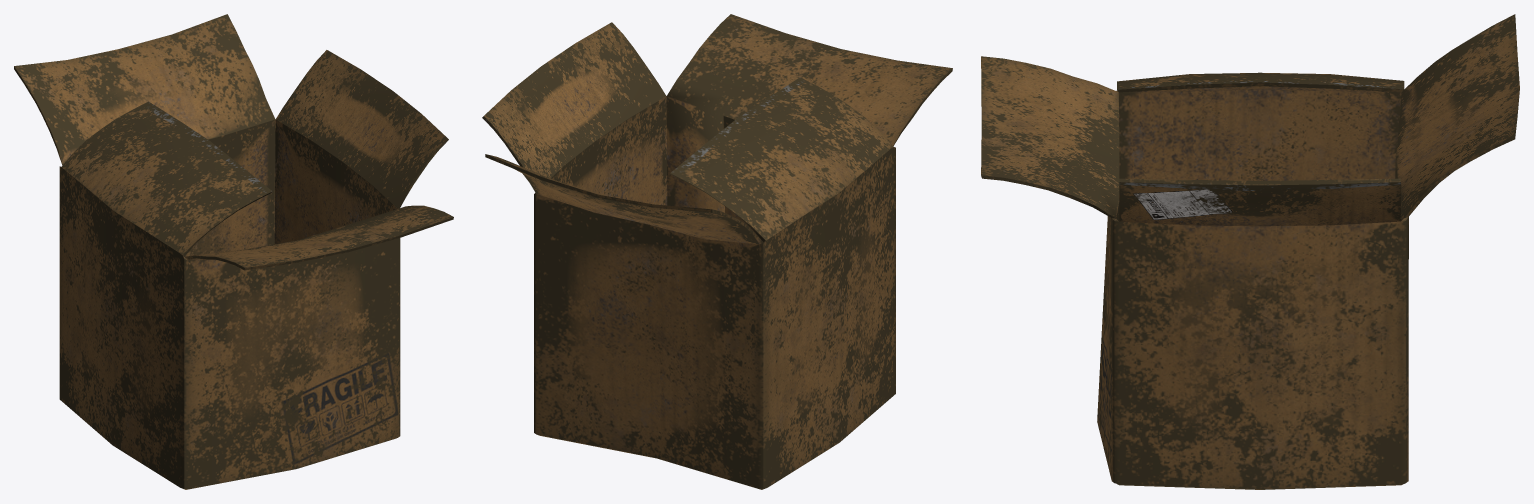
The model's file is dirty_cardboard_box.glb.
The picture shows the model from 3 angles, left to right: view 1: azimuth 30°, elevation 25°; view 2: azimuth 150°, elevation 25°; view 3: azimuth 270°, elevation 25°; orthographic projection. The views are drawn at different scales.
Visible parts, largest first — view 1: BoxLow; view 2: BoxLow; view 3: BoxLow.
Part boxes in pixels (x1,y1,x2,y2): BoxLow: [14, 14, 453, 489]; BoxLow: [482, 14, 952, 489]; BoxLow: [981, 14, 1519, 489].
Bounding box in the file's own units: 64.1 × 65.23 × 90.8.
1 material, 1 textured.
